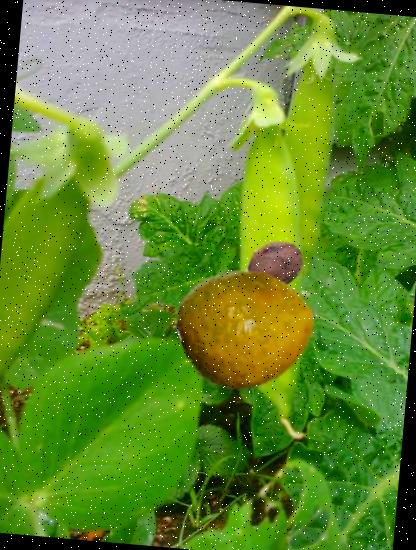Cocos: (244, 234, 308, 298)
Guava: (174, 254, 321, 401)
